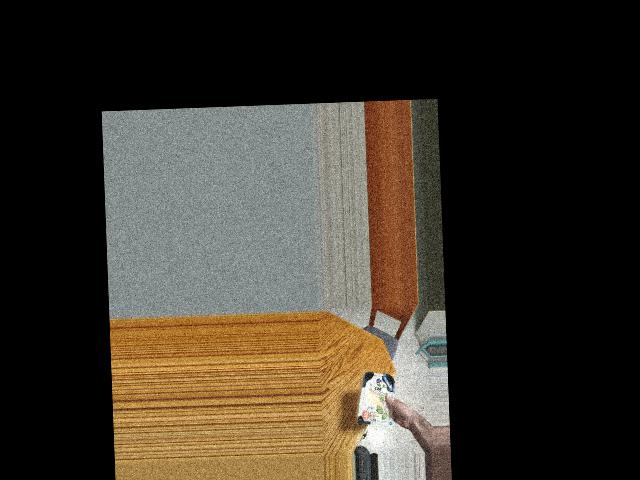cheese: (361, 371, 394, 422)
